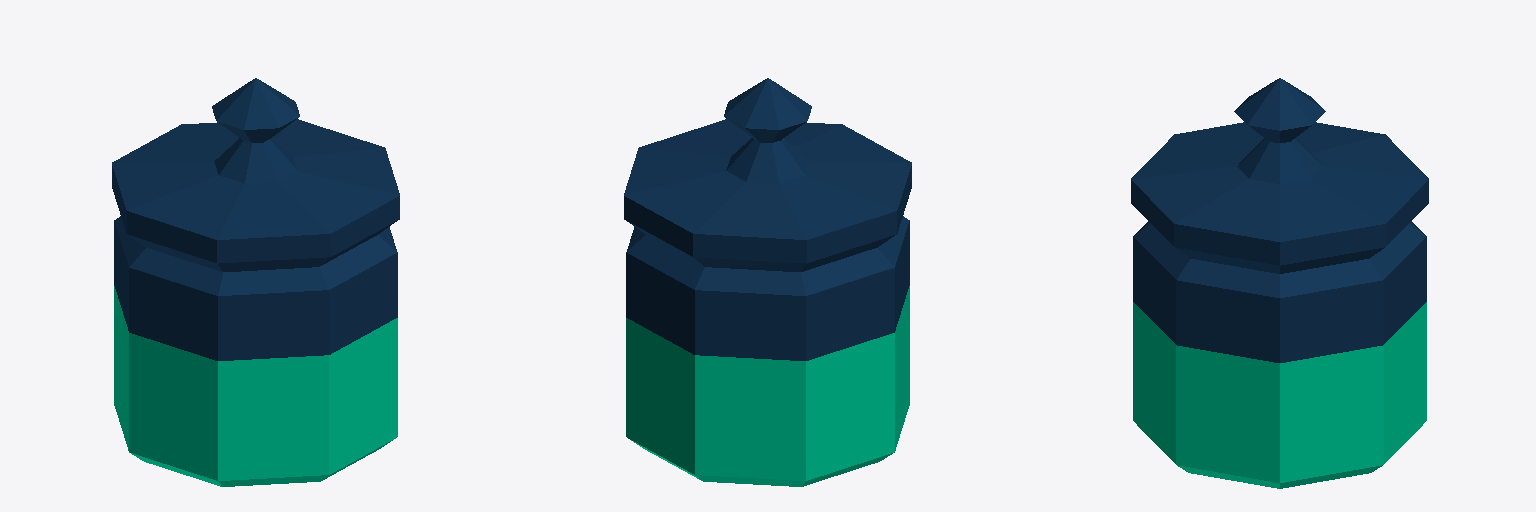
The model's file is Bottle.obj.
3 views of the same model, side by side, from view 1: azimuth 30°, elevation 25°; view 2: azimuth 150°, elevation 25°; view 3: azimuth 270°, elevation 25° (orthographic).
Visible parts, largest first — view 1: Line1076; view 2: Line1076; view 3: Line1076.
Part boxes in pixels (x1,y1,x2,y2): Line1076: (112,78,399,486); Line1076: (624,78,911,486); Line1076: (1131,78,1428,488).
Bounding box in the file's own units: 2.02 × 2.67 × 2.02.